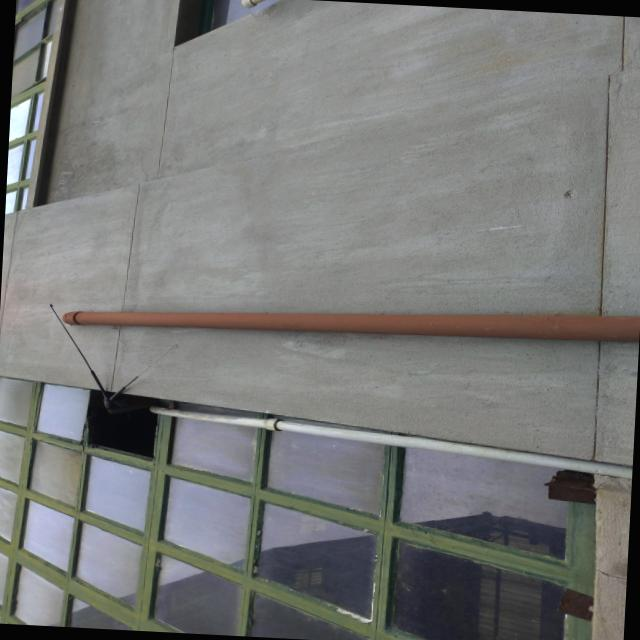gas: (155, 408, 633, 480), (66, 310, 640, 342)
